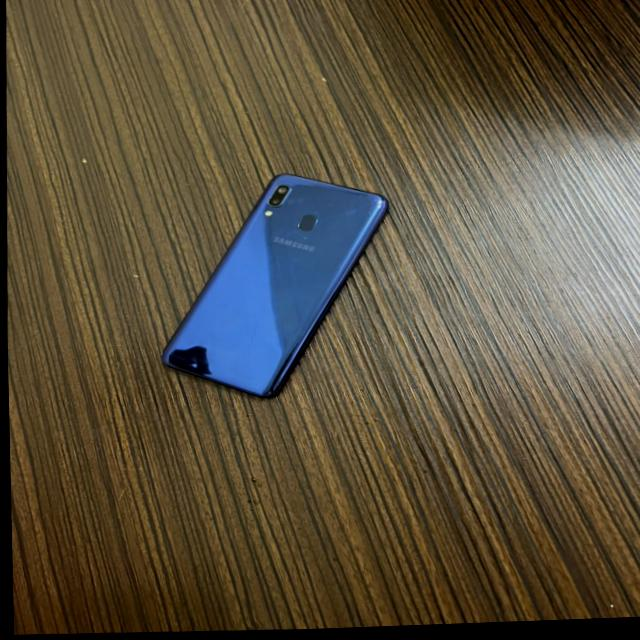Smartphone: (145, 162, 412, 418)
